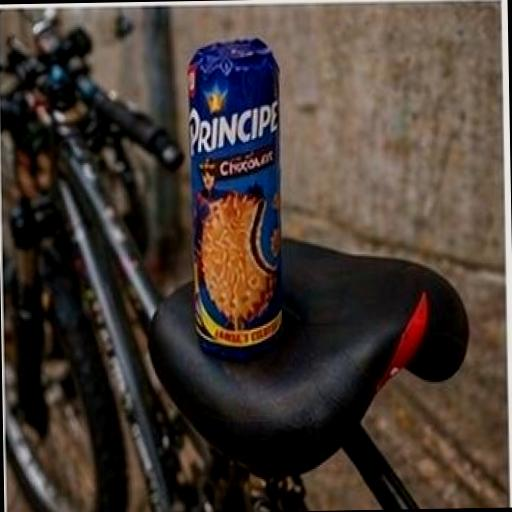prince: (116, 6, 392, 444)
